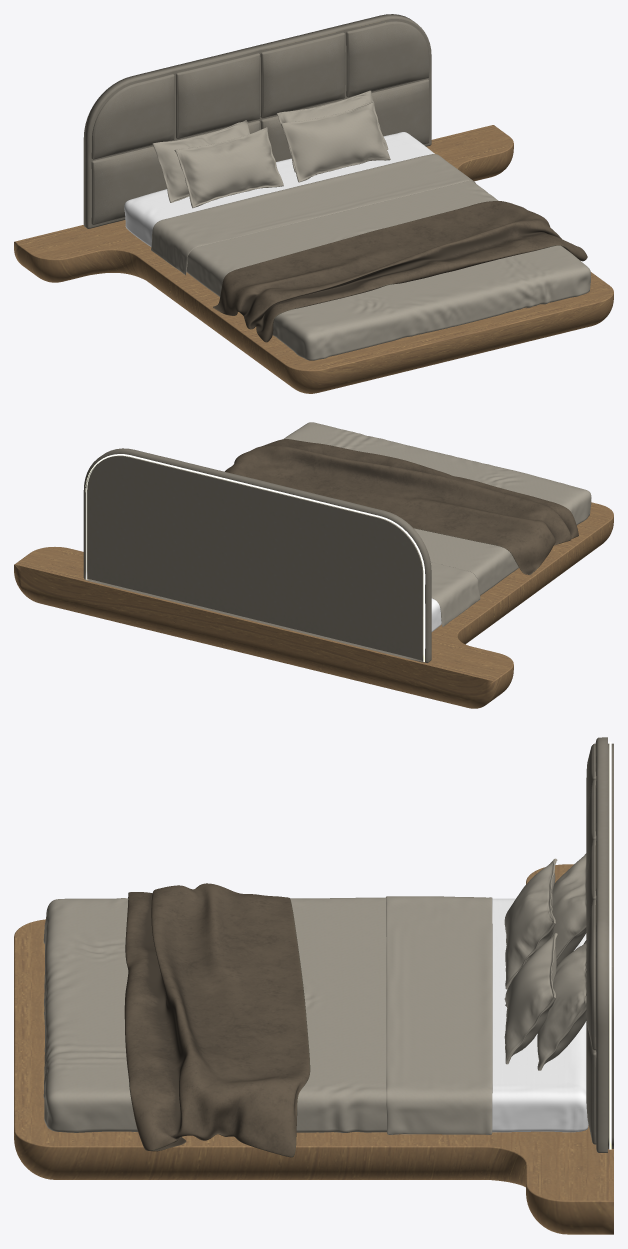
3 renders of one model, top to bottom at view 1: azimuth 30°, elevation 25°; view 2: azimuth 150°, elevation 25°; view 3: azimuth 270°, elevation 25°, orthographic. The views are drawn at different scales.
Visible parts, largest first — view 1: blanket-001, headboard, main, blanket-002, pillow-003, pillow-004, pillow-001, pillow-002; view 2: headboard, main, blanket-002, blanket-001; view 3: blanket-001, blanket-002, main, headboard, pillow-003, pillow-004, pillow-002, pillow-001.
Boxes of the visible parts, box(x1,y1,x2,y2) form: blanket-001: box(124, 132, 590, 360); headboard: box(83, 14, 431, 228); main: box(14, 125, 613, 393); blanket-002: box(213, 201, 587, 342); pillow-003: box(281, 101, 390, 182); pillow-004: box(174, 127, 283, 208); pillow-001: box(152, 120, 249, 202); pillow-002: box(276, 90, 388, 172); headboard: box(83, 448, 431, 662); main: box(14, 502, 613, 708); blanket-002: box(225, 439, 578, 574); blanket-001: box(283, 422, 591, 631); blanket-001: box(43, 896, 588, 1134); blanket-002: box(124, 883, 310, 1157); main: box(14, 864, 613, 1234); headboard: box(586, 737, 613, 1152); pillow-003: box(504, 933, 557, 1064); pillow-004: box(504, 858, 557, 989); pillow-002: box(537, 940, 586, 1070); pillow-001: box(551, 853, 586, 966).
Bounding box in the file's own units: 2.66 × 0.9097 × 2.
Materials: 2 (2 with a texture image).
